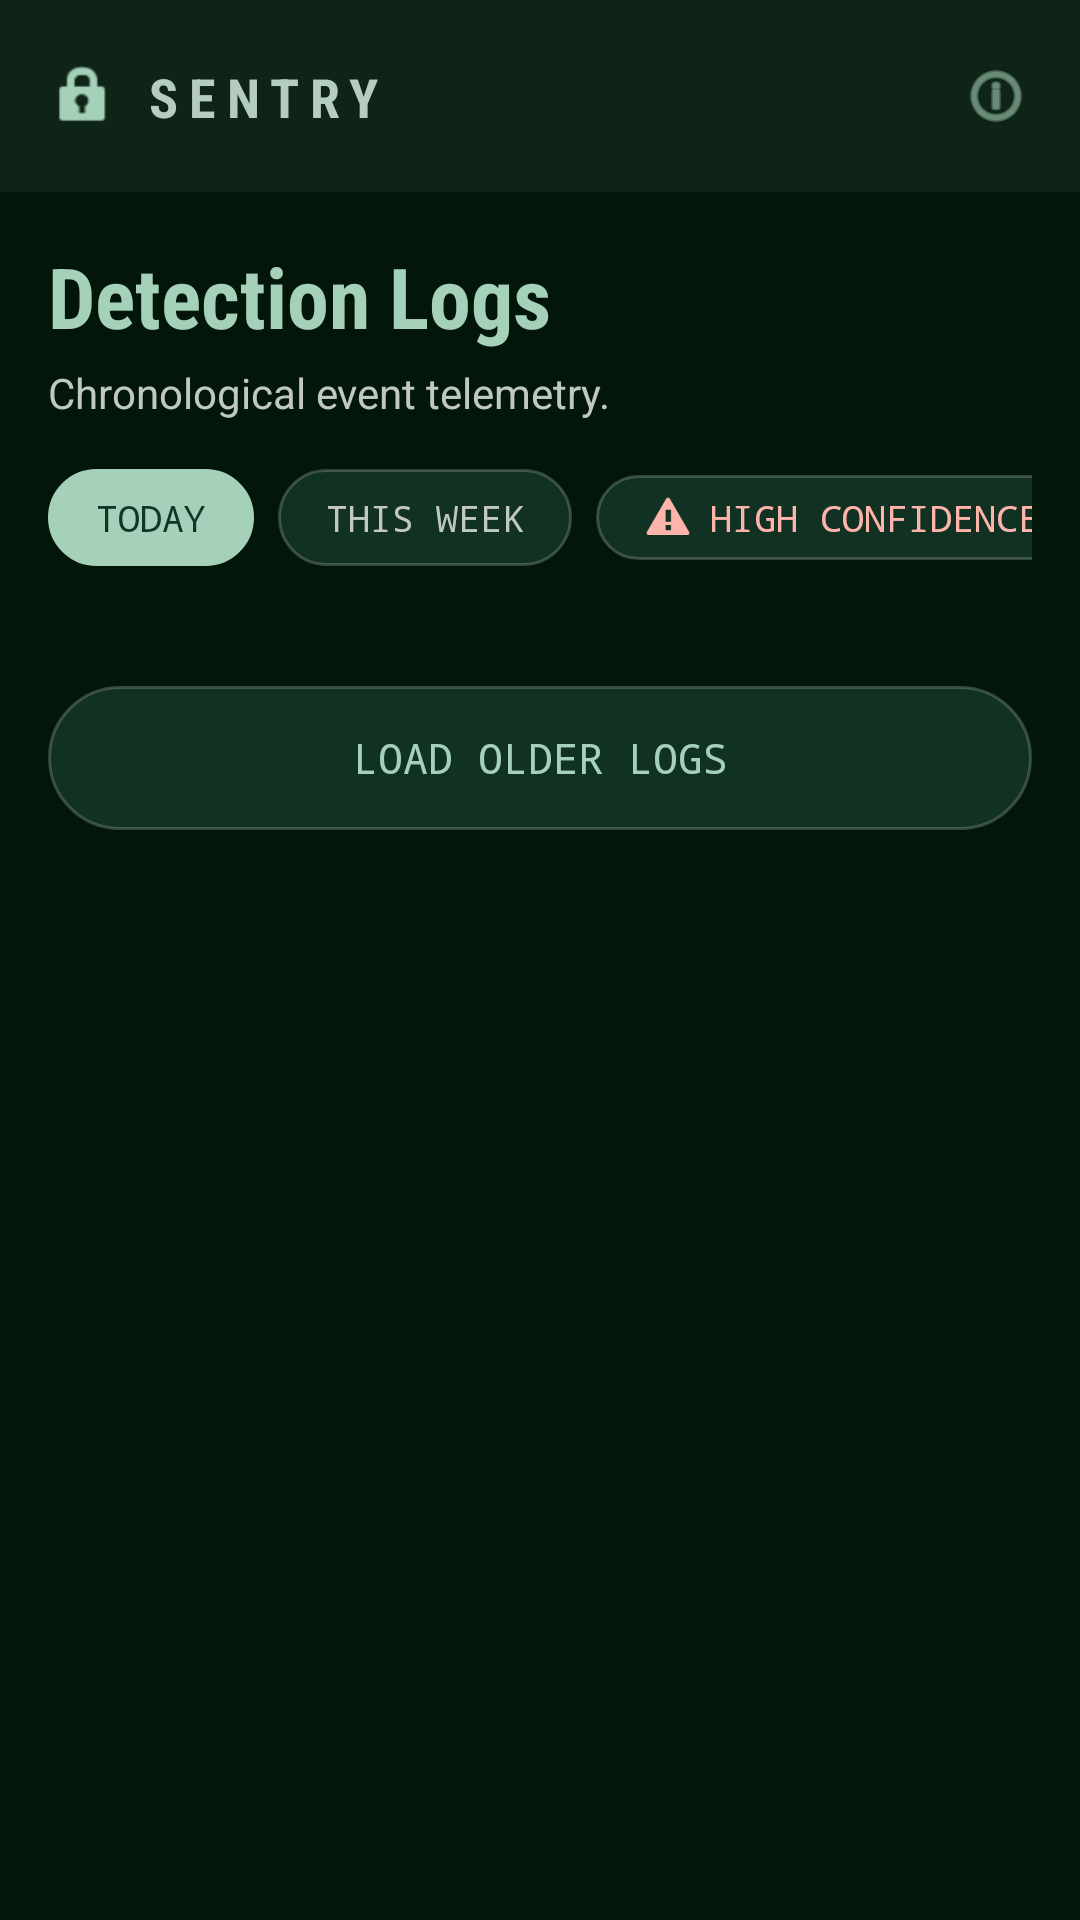

Icons on this 1080px×1920px Android screen, each with its box as (x1, y1, x2, y2):
error: (646, 497, 690, 535)
info details: (970, 70, 1022, 122)
lock idle: (59, 66, 106, 121)
